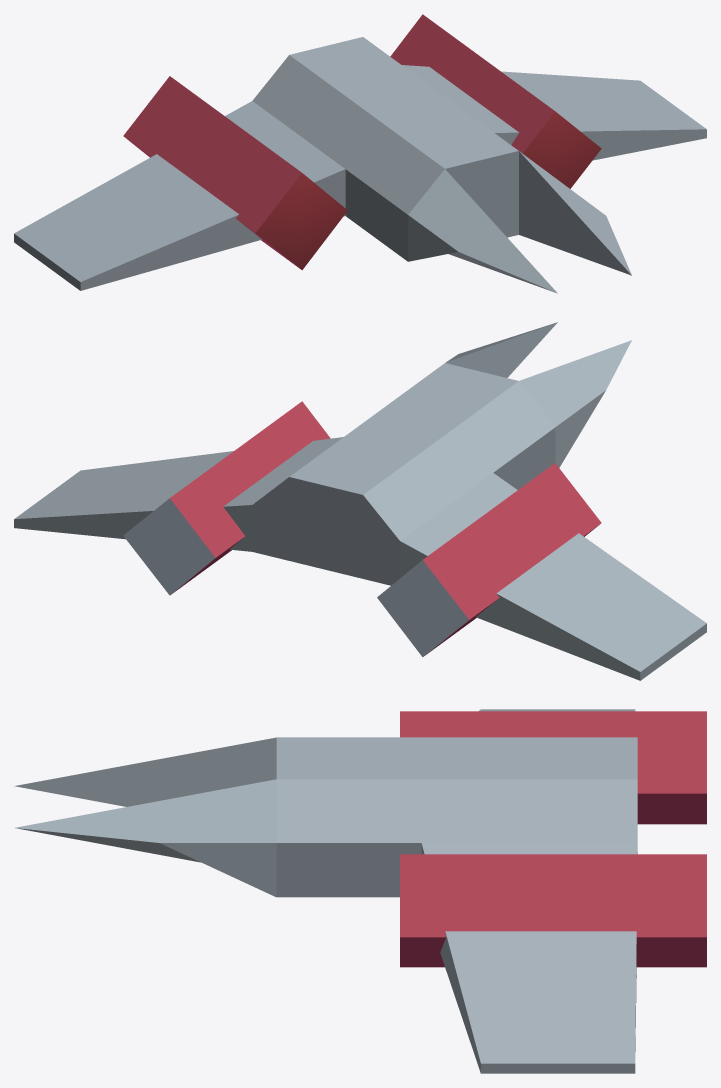
File: ship.glb
3 renders of one model, top to bottom at view 1: azimuth 30°, elevation 25°; view 2: azimuth 150°, elevation 25°; view 3: azimuth 270°, elevation 25°, orthographic. The views are drawn at different scales.
Visible parts, largest first — view 1: Cube; view 2: Cube; view 3: Cube.
Part boxes in pixels (bbox=[...]): Cube: bbox=[14, 14, 706, 293]; Cube: bbox=[14, 322, 706, 680]; Cube: bbox=[14, 709, 706, 1073].
Bounding box in the file's own units: 19.24 × 3.5 × 15.91.
